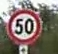limite 50: (6, 8, 43, 44)
